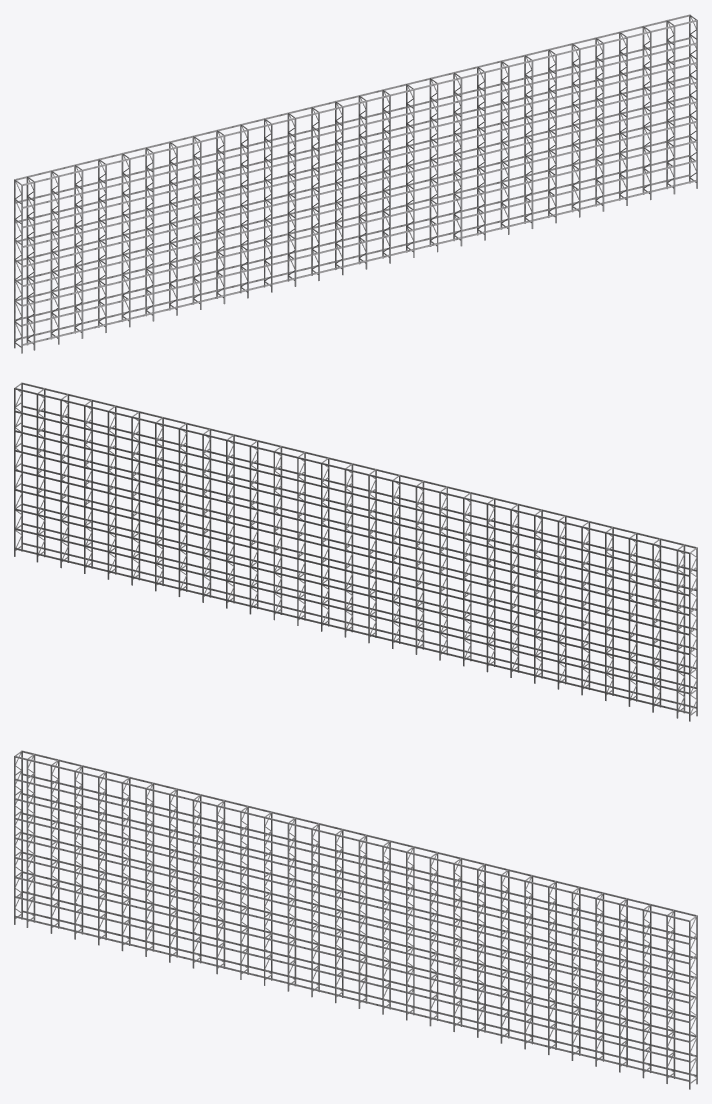
The model's file is SND_liku_jia1.glb.
The picture shows the model from 3 angles, top to bottom: view 1: azimuth 30°, elevation 25°; view 2: azimuth 150°, elevation 25°; view 3: azimuth 330°, elevation 25°; orthographic projection.
Parts seen in each view (by area): view 1: Asset3DLoader.sceneRoot; view 2: Asset3DLoader.sceneRoot; view 3: Asset3DLoader.sceneRoot.
Boxes of the visible parts, box(x1,y1,x2,y2) form: Asset3DLoader.sceneRoot: box(14, 14, 697, 353); Asset3DLoader.sceneRoot: box(14, 382, 697, 721); Asset3DLoader.sceneRoot: box(14, 750, 697, 1089).
Bounding box in the file's own units: 593 × 142 × 11.81.
Materials: 1 (1 with a texture image).
